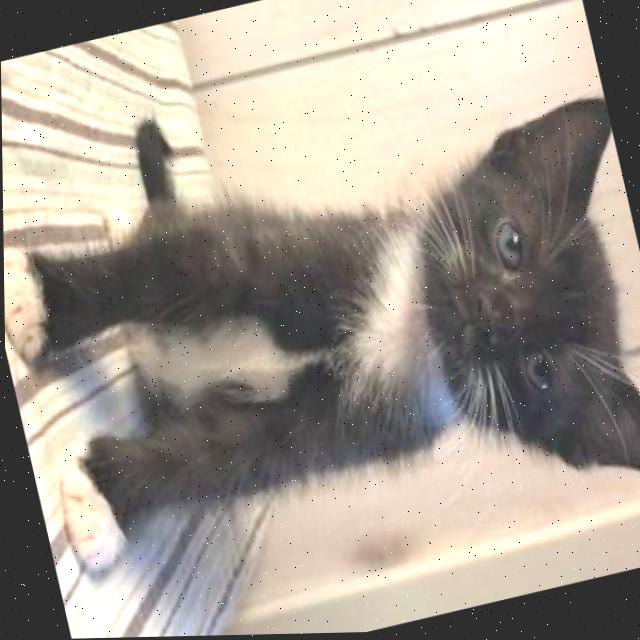Tuxedo: (0, 15, 640, 628)
